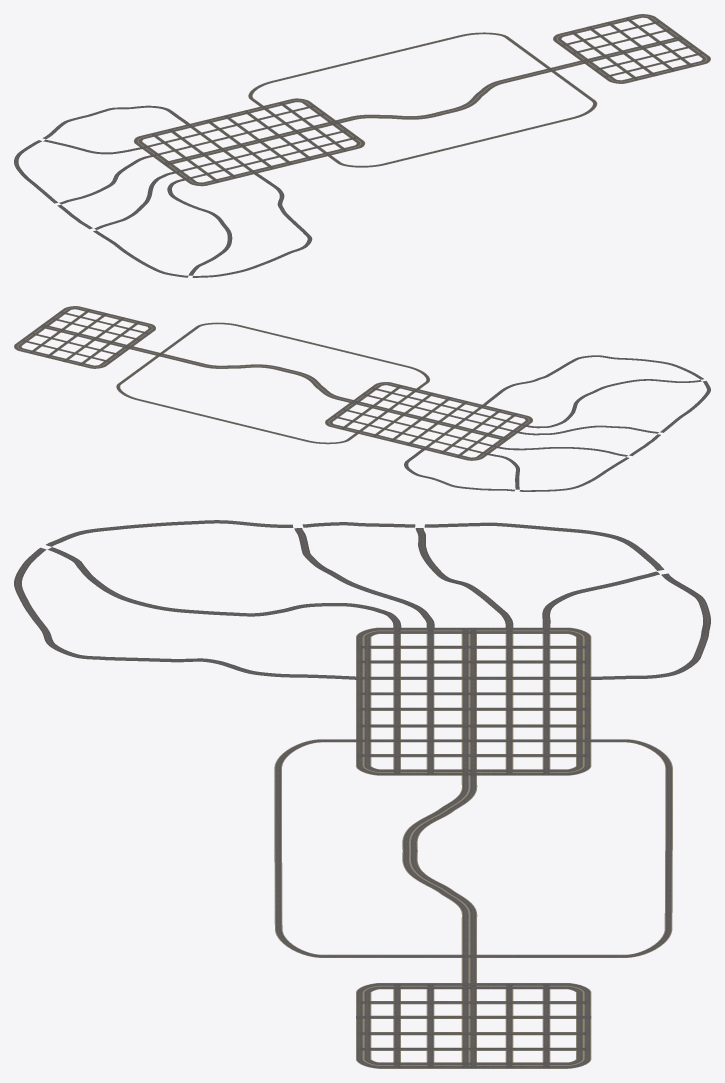
The model's file is road.fbx.
The picture shows the model from 3 angles, top to bottom: view 1: azimuth 30°, elevation 25°; view 2: azimuth 150°, elevation 25°; view 3: azimuth 270°, elevation 25°; orthographic projection. The views are drawn at different scales.
Visible parts, largest first — view 1: Default_Road_002; view 2: Default_Road_002; view 3: Default_Road_002.
Part boxes in pixels (x1=…): Default_Road_002: x1=14, y1=14, x2=710, y2=277; Default_Road_002: x1=14, y1=306, x2=710, y2=491; Default_Road_002: x1=14, y1=520, x2=710, y2=1068.
Bounding box in the file's own units: 638920 × 2211 × 344784.
